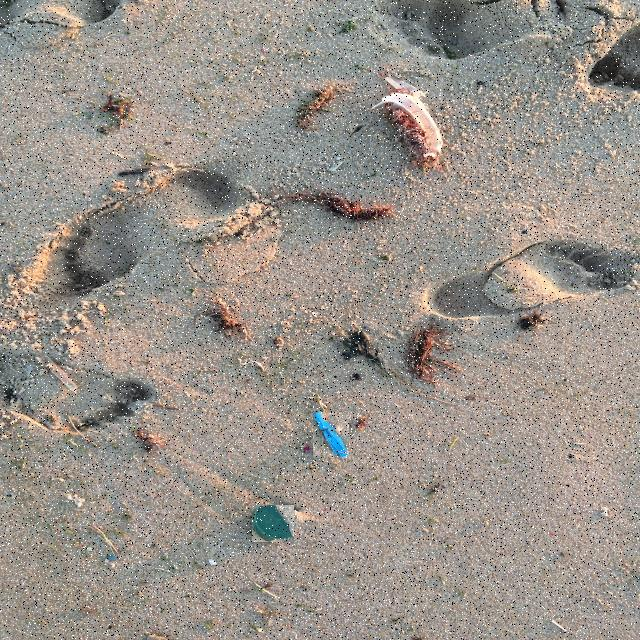Other plastic bottle: (370, 78, 443, 158), (314, 412, 349, 458)
Plastic lid: (253, 505, 294, 542)
